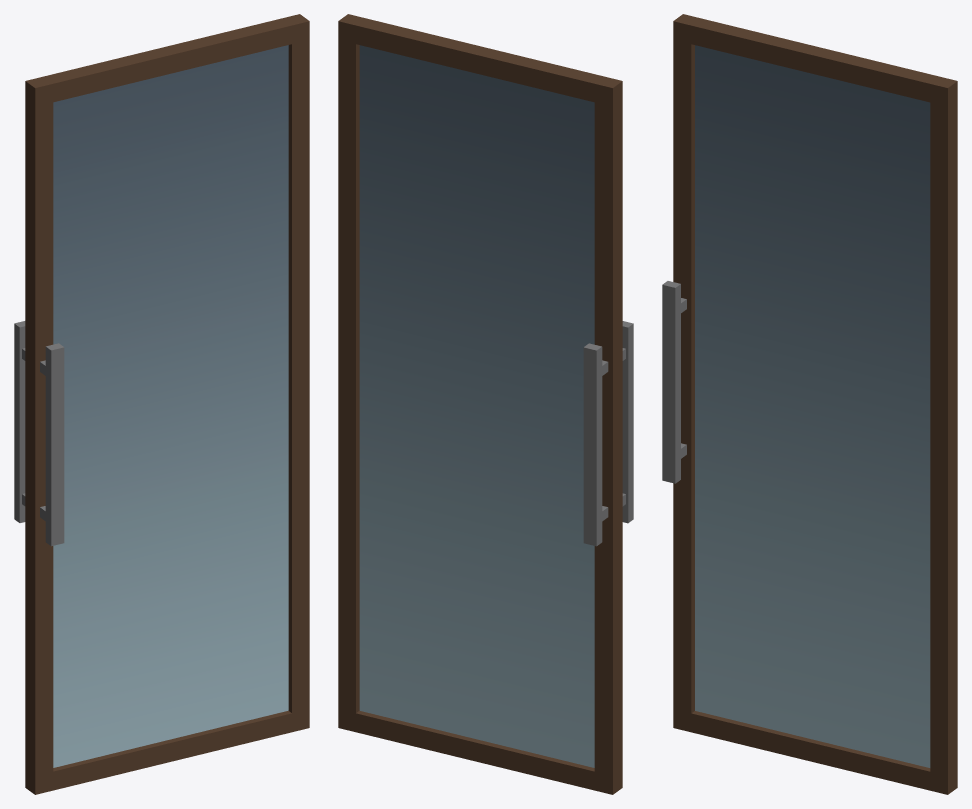
File: SM_Buildings_House_11_Door_01.fbx
The picture shows the model from 3 angles, left to right: view 1: azimuth 30°, elevation 25°; view 2: azimuth 150°, elevation 25°; view 3: azimuth 330°, elevation 25°; orthographic projection.
Parts seen in each view (by area): view 1: SM_Buildings_House_11_Door_01; view 2: SM_Buildings_House_11_Door_01; view 3: SM_Buildings_House_11_Door_01.
Boxes of the visible parts, bbox=[...] form: SM_Buildings_House_11_Door_01: bbox=[14, 14, 309, 794]; SM_Buildings_House_11_Door_01: bbox=[338, 14, 633, 794]; SM_Buildings_House_11_Door_01: bbox=[662, 14, 957, 794].
Size of the model in its own units: 0.9733 by 2.39 by 0.2271.
